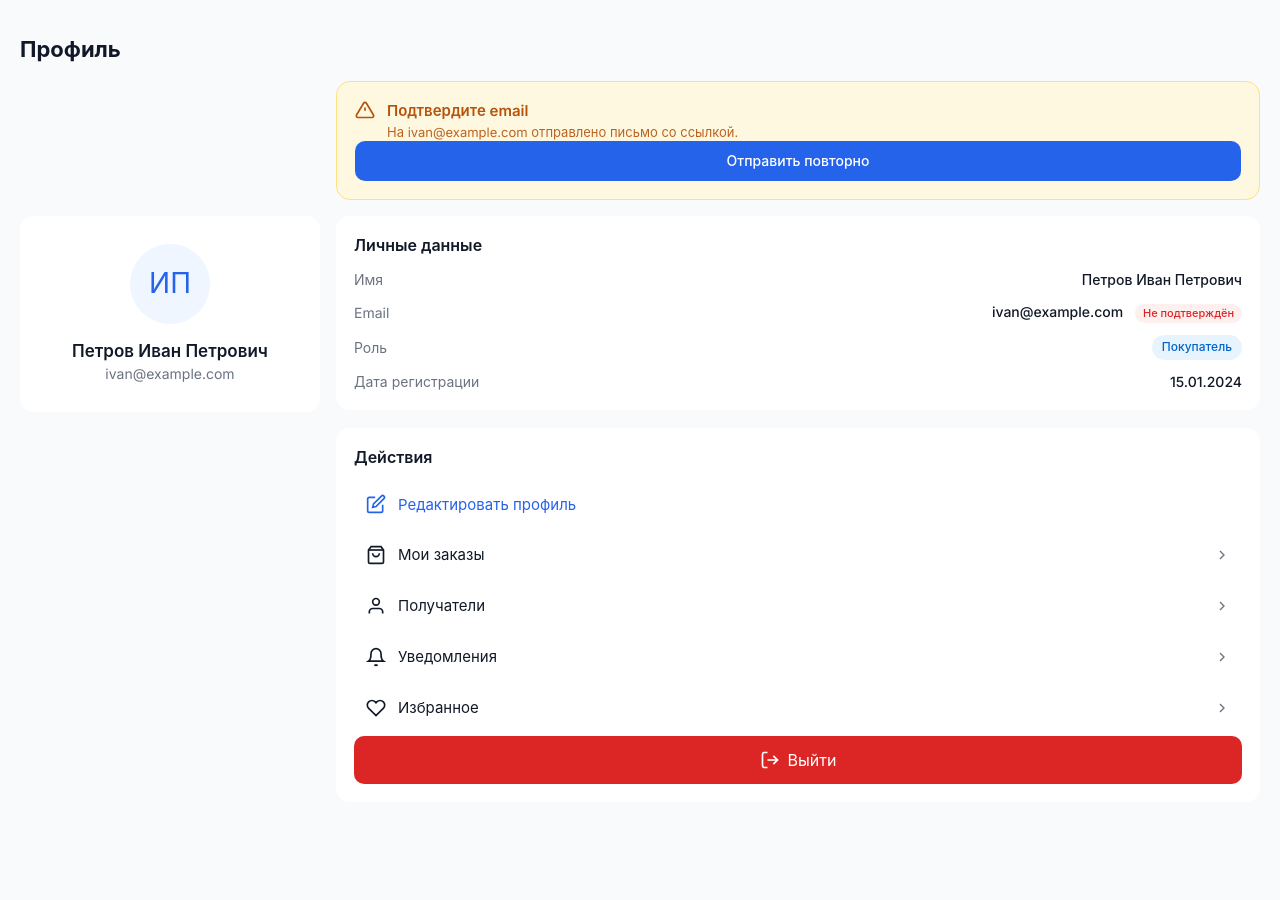
Test case: Profile.vue › отправляет повторное письмо по кнопке и показывает сообщение
Click the button with test id "profile-resend-verification" at (798, 161), box 355,141 -> 1241,181
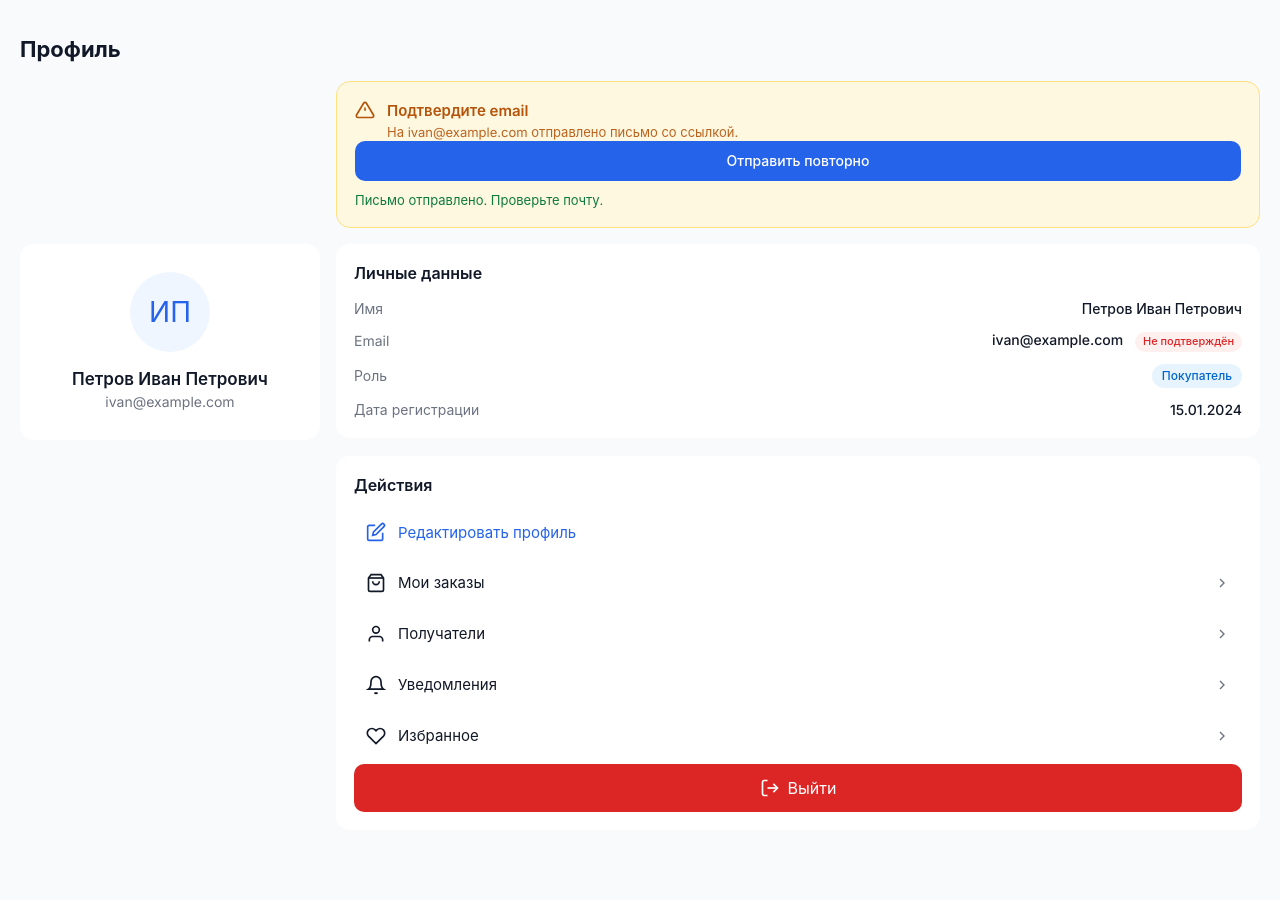
Result: the text with test id "profile-resend-message" shows "Письмо отправлено" at 355,192 -> 603,208
